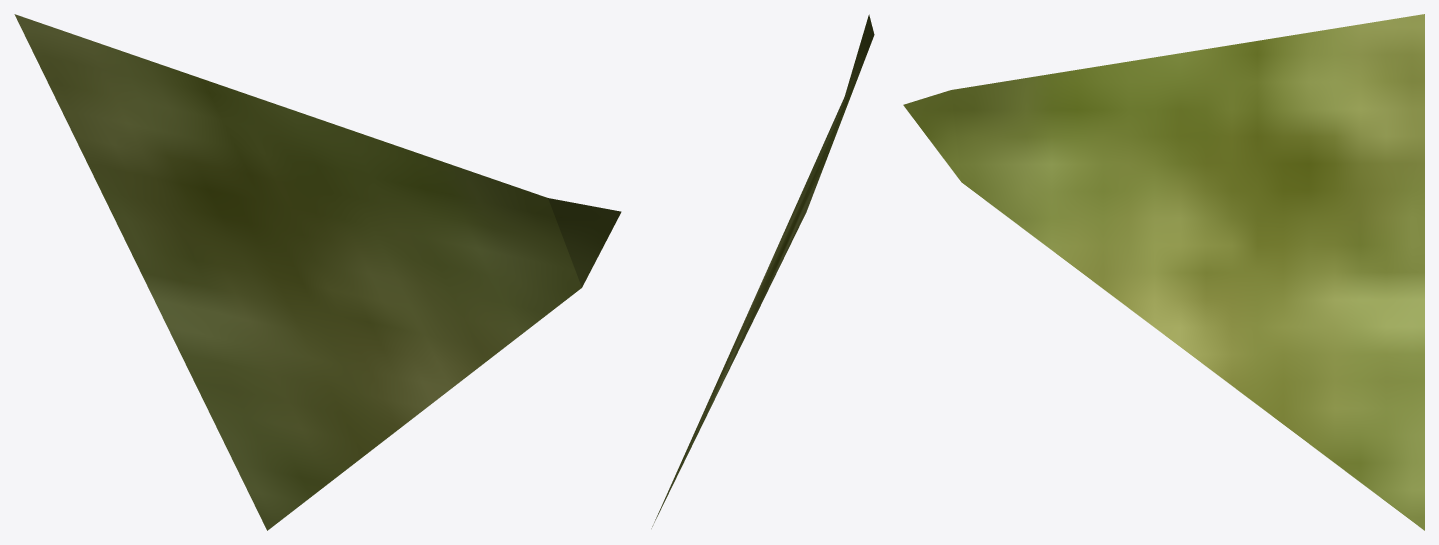
The picture shows the model from 3 angles, left to right: view 1: azimuth 30°, elevation 25°; view 2: azimuth 150°, elevation 25°; view 3: azimuth 270°, elevation 25°; orthographic projection. The views are drawn at different scales.
Bounding box in the file's own units: 0.0892 × 0.195 × 0.2165.
Materials: 1 (1 with a texture image).
